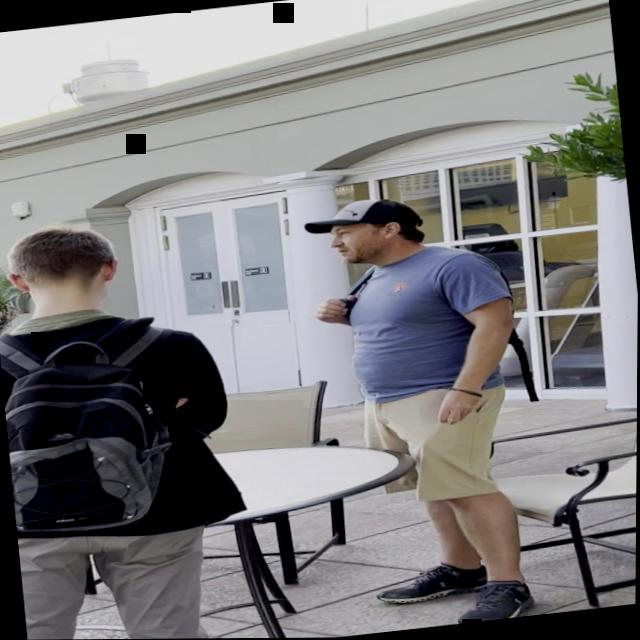NO-Mask: (329, 220, 383, 265)
